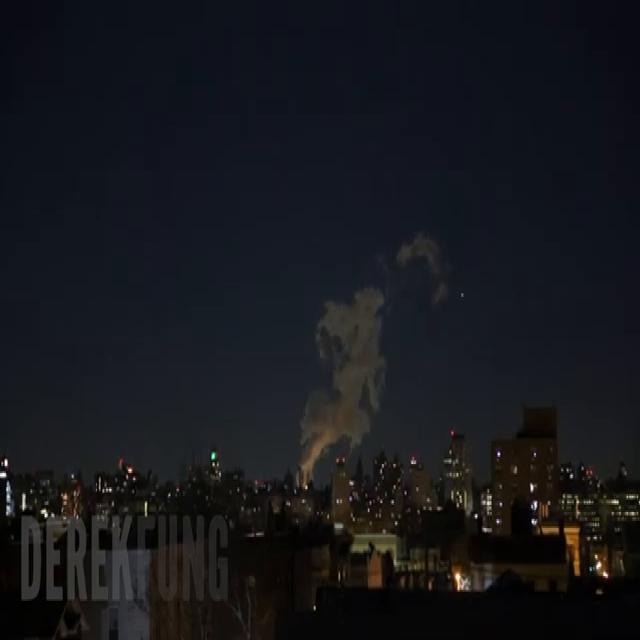smoke: (300, 288, 385, 475)
